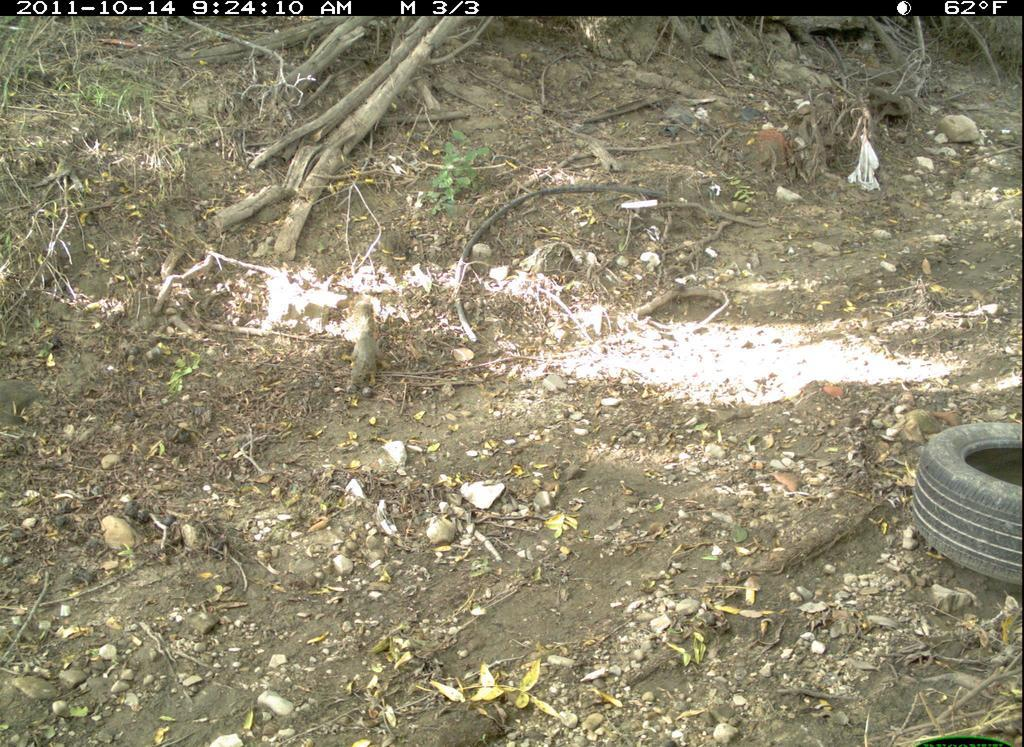squirrel: (335, 280, 408, 417)
